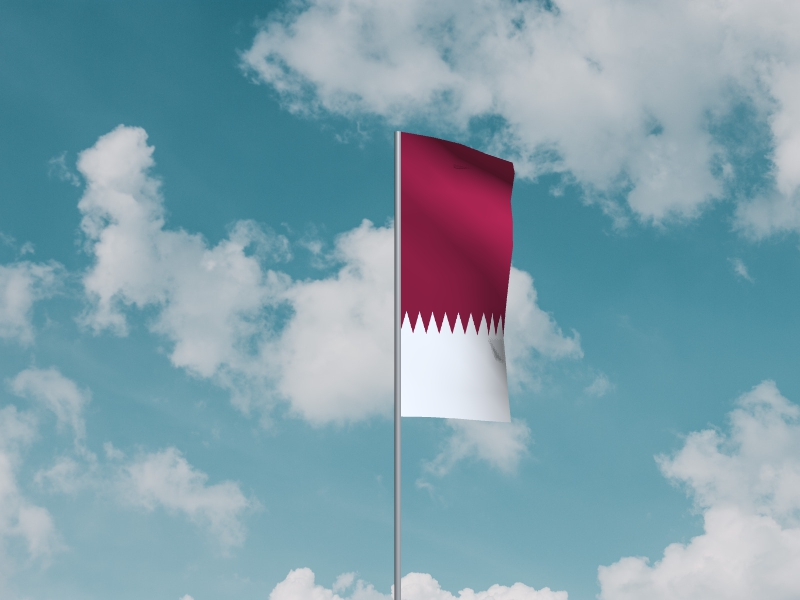qa: (401, 133, 517, 424)
